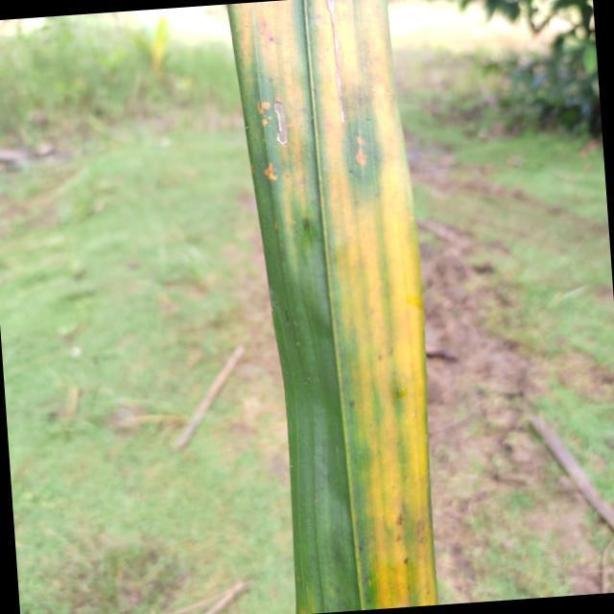Megnesium: (232, 0, 438, 614)
